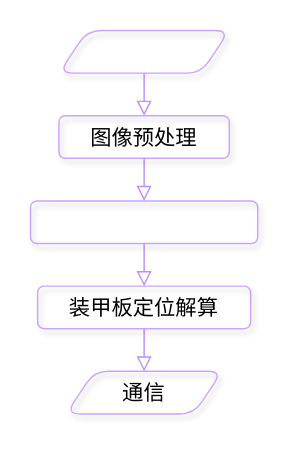
Image size: 291x449. Some labels were removed from this diagram. The centre of each missing label's shape, as x and y in pixels:
轮廓提取轮廓处理: the point at 144,223
输入图像: the point at 145,53
